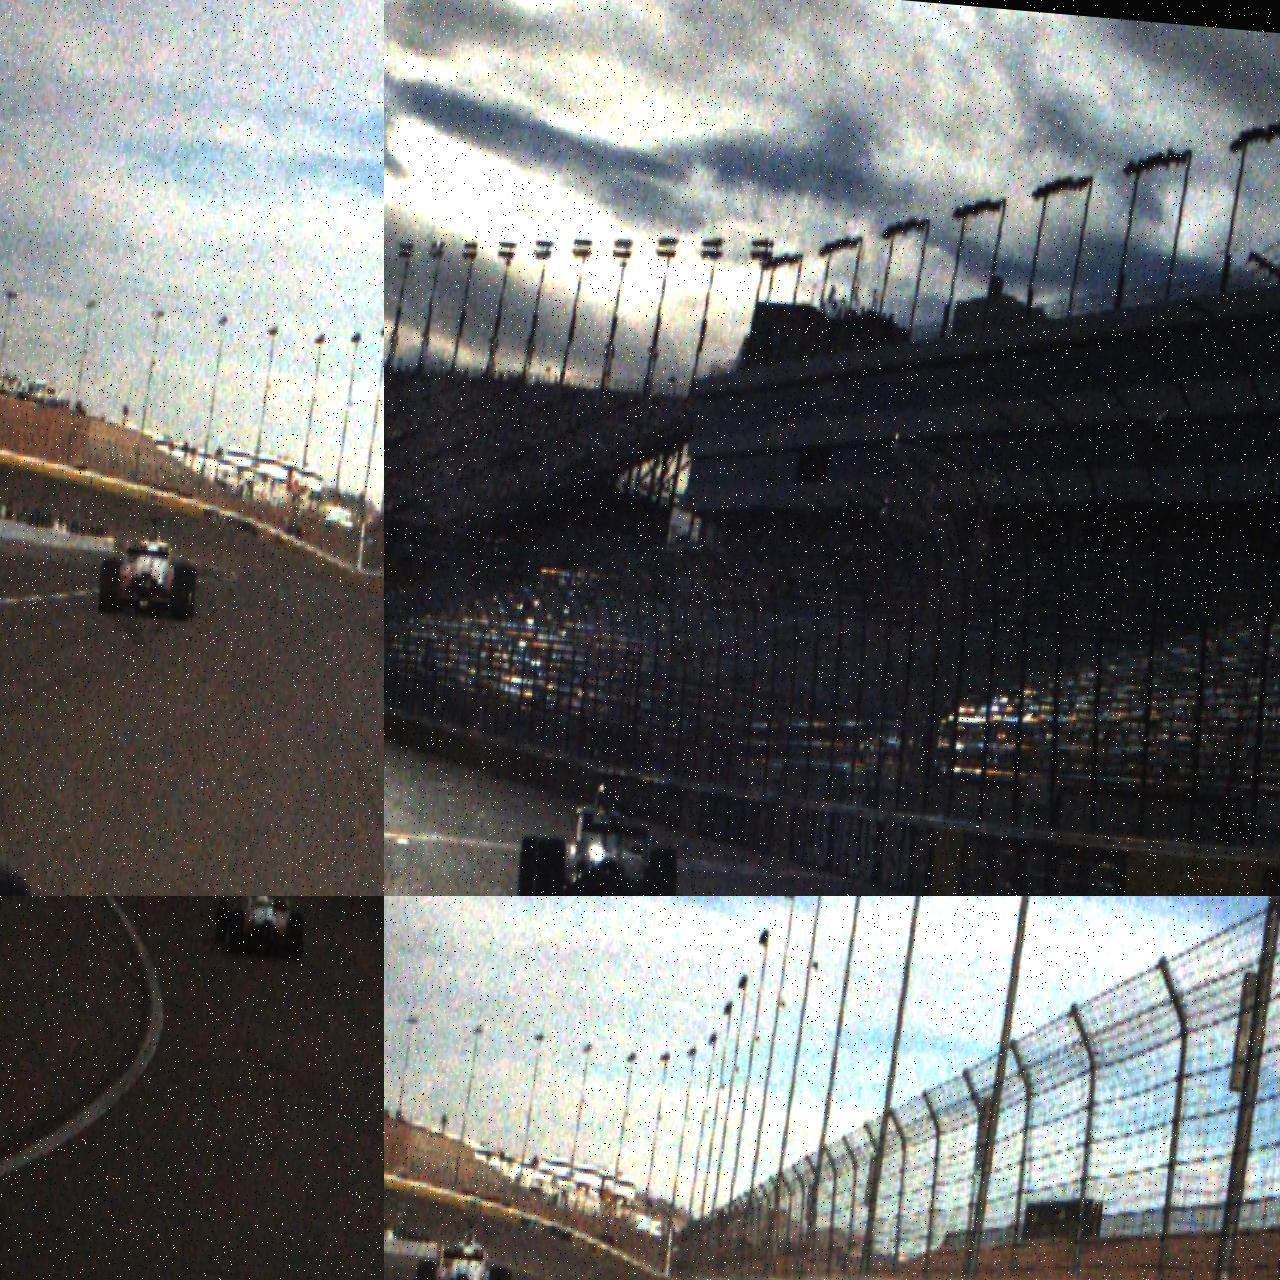AV: (515, 761, 688, 896), (97, 512, 202, 622), (413, 1213, 517, 1280), (211, 896, 309, 961)
Wheel: (530, 837, 566, 896), (642, 846, 681, 896), (515, 835, 540, 896), (170, 565, 195, 622), (97, 558, 121, 615), (224, 908, 245, 956), (286, 912, 306, 961), (212, 899, 231, 944), (414, 1261, 437, 1280), (486, 1266, 510, 1280)
